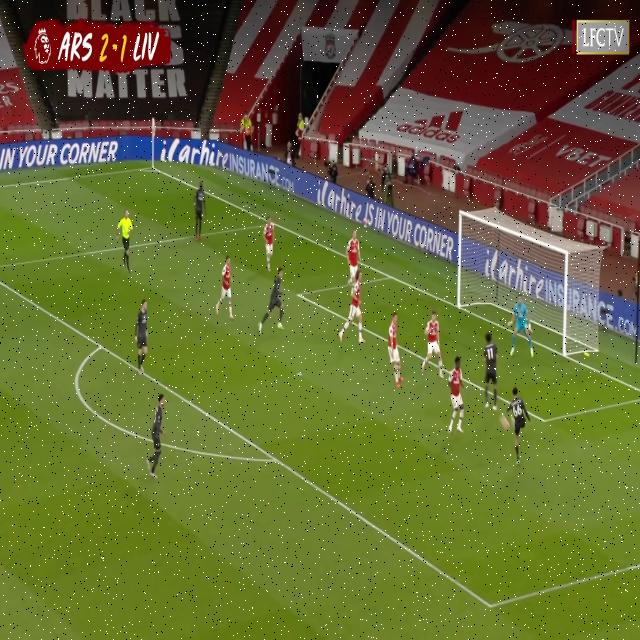Ball: (500, 415, 510, 437)
GoalKeeper: (508, 294, 534, 358)
TEAM 1: (339, 270, 368, 343), (446, 360, 466, 438), (388, 311, 406, 391), (422, 311, 443, 376), (216, 256, 234, 320), (347, 230, 362, 286), (262, 218, 275, 270)
TEAM 2: (504, 387, 530, 466), (260, 266, 288, 333), (481, 334, 499, 411), (150, 397, 166, 481), (134, 299, 150, 376), (192, 184, 206, 242)
